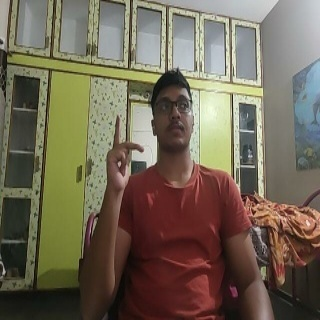Face: (151, 71, 195, 154)
Okay: (103, 112, 146, 194)
